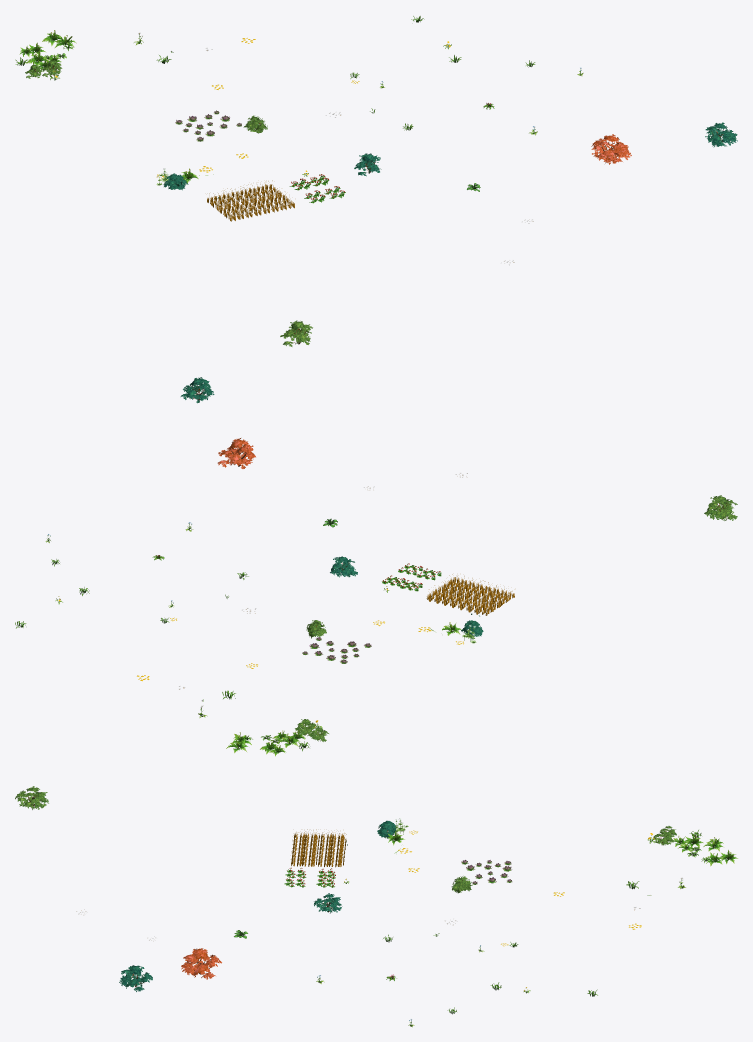
Rendered from Grad nevidljivih samo prohodni el 14. april.fbx.
3 renders of one model, top to bottom at view 1: azimuth 30°, elevation 25°; view 2: azimuth 150°, elevation 25°; view 3: azimuth 270°, elevation 25°, orthographic. The views are drawn at different scales.
Parts seen in each view (by area): view 1: prohodni_elementi; view 2: prohodni_elementi; view 3: prohodni_elementi.
Boxes of the visible parts, bbox=[...] form: prohodni_elementi: bbox=[15, 16, 737, 346]; prohodni_elementi: bbox=[15, 377, 737, 756]; prohodni_elementi: bbox=[15, 786, 737, 1027].
Size of the model in its own units: 44.63 by 5.58 by 58.09.
Materials: 6 (6 with a texture image).
